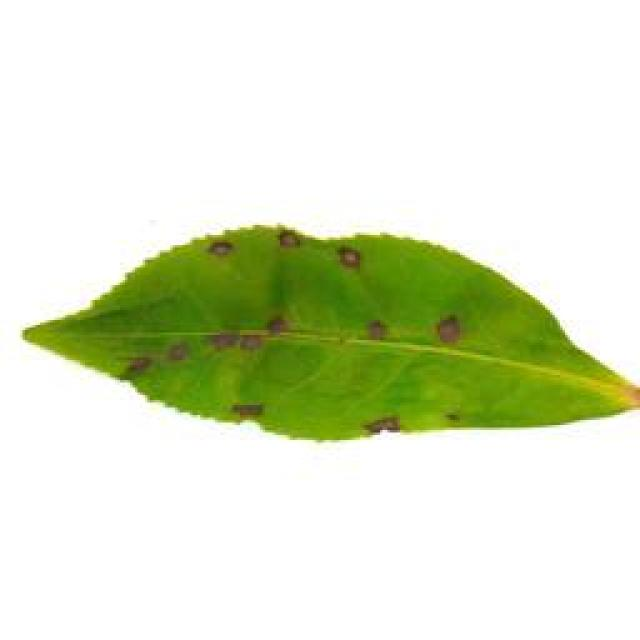Helopeltis: (20, 214, 640, 459)
